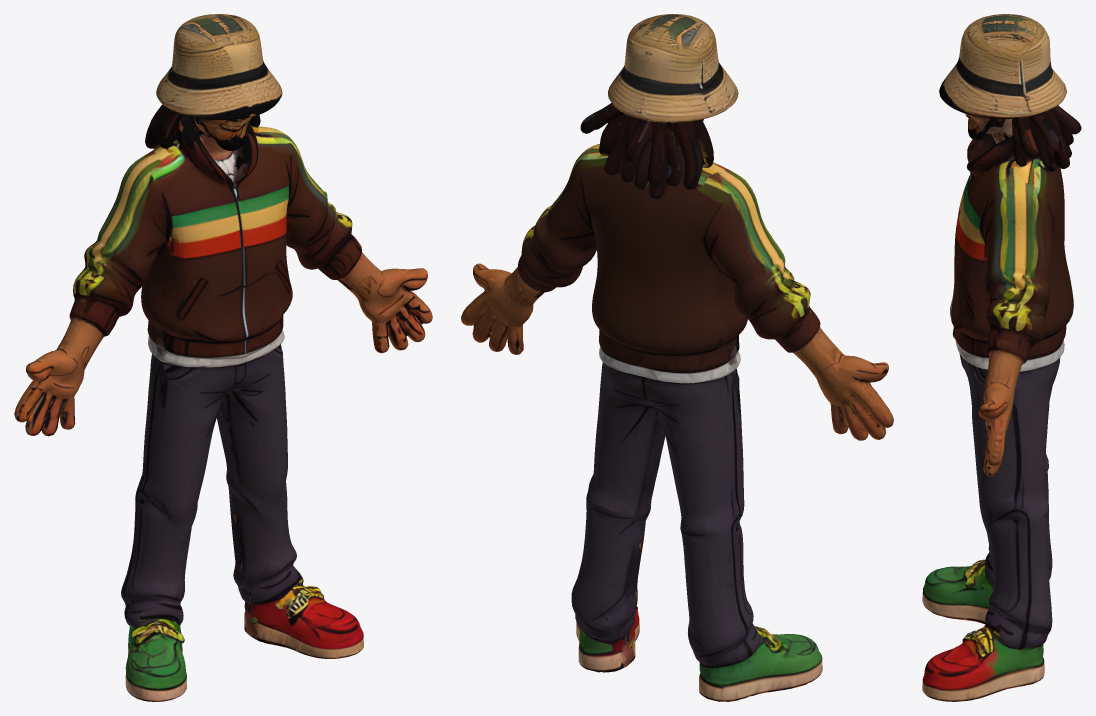
Rendered from lickshot_placeholder_static.fbx.
3 renders of one model, left to right at view 1: azimuth 30°, elevation 25°; view 2: azimuth 150°, elevation 25°; view 3: azimuth 270°, elevation 25°, orthographic. The views are drawn at different scales.
Parts seen in each view (by area): view 1: textured_mesh; view 2: textured_mesh; view 3: textured_mesh.
Boxes of the visible parts, x1=… form: textured_mesh: x1=14, y1=14, x2=432, y2=701; textured_mesh: x1=461, y1=14, x2=893, y2=701; textured_mesh: x1=922, y1=14, x2=1081, y2=701.
Bounding box in the file's own units: 138 × 199 × 45.97.
Materials: 1 (1 with a texture image).
